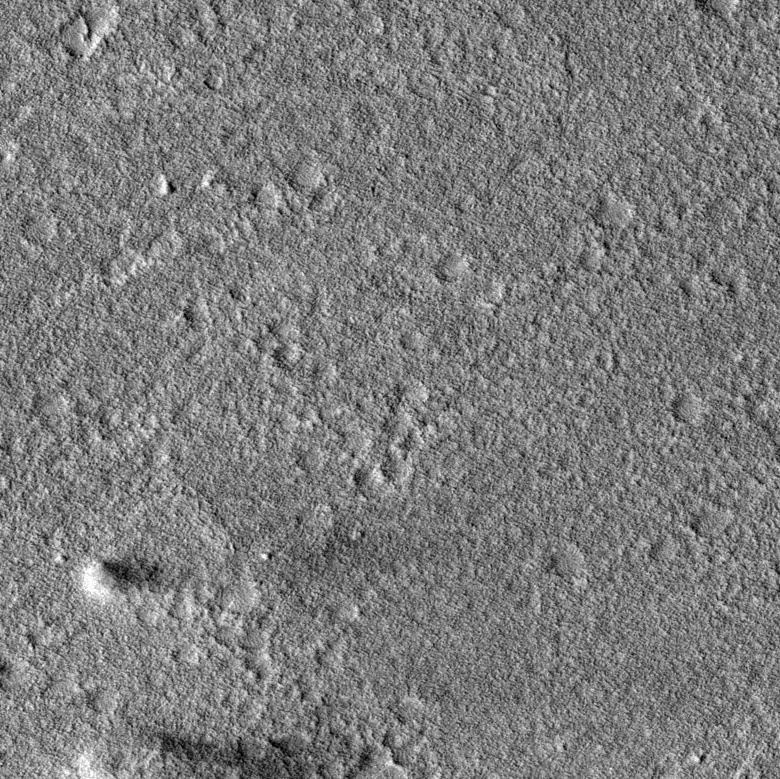dust_devil: (61, 723, 374, 779), (80, 555, 164, 605)
